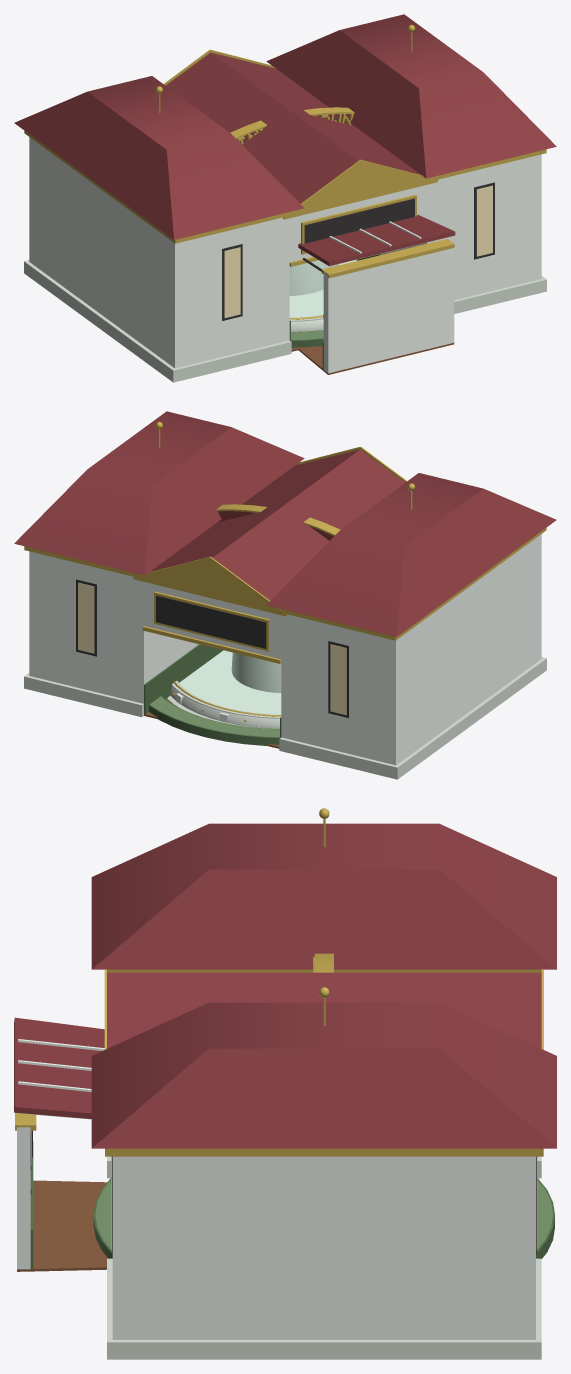
Rendered from downs-arcade.glb.
3 views of the same model, one above another, from view 1: azimuth 30°, elevation 25°; view 2: azimuth 150°, elevation 25°; view 3: azimuth 270°, elevation 25° (orthographic). The views are drawn at different scales.
Visible parts, largest first — view 1: dn_gate_hall_barn, dn_gate_hall_mint, dn_arcade_mint, dn_gate_hall_gold, dn_gate_hall_mint2, dn_arcade_barn, dn_gate_hall_black, dn_gate_hall_glasswarm, dn_arcade_gold, dn_curtainSheet, dn_gate_main_gold, dn_waterBasin (+2 smaller); view 2: dn_gate_hall_barn, dn_gate_hall_mint, dn_gate_hall_gold, dn_gate_hall_mint2, dn_gate_hall_black, dn_waterBasin, dn_gate_hall_glasswarm, dn_gate_hall_money2, dn_fountain_mint2, dn_curtainSheet, dn_fountain_money2, dn_fountain_money (+1 smaller); view 3: dn_gate_hall_barn, dn_gate_hall_mint, dn_gate_hall_mint2, dn_arcade_barn, dn_gate_hall_gold, dn_arcade_saddle2, dn_arcade_mint, dn_fountain_money, dn_fountain_money2.
Part boxes in pixels (<box>): dn_gate_hall_barn: <box>14,14,556,239</box>; dn_gate_hall_mint: <box>29,137,541,368</box>; dn_arcade_mint: <box>323,221,454,373</box>; dn_gate_hall_gold: <box>24,24,546,266</box>; dn_gate_hall_mint2: <box>24,260,546,382</box>; dn_arcade_barn: <box>298,215,455,266</box>; dn_gate_hall_black: <box>222,182,494,320</box>; dn_gate_hall_glasswarm: <box>224,185,492,318</box>; dn_arcade_gold: <box>321,239,454,278</box>; dn_curtainSheet: <box>289,260,338,295</box>; dn_gate_main_gold: <box>230,107,354,144</box>; dn_waterBasin: <box>289,260,357,317</box>; dn_gate_hall_barn: <box>14,411,556,636</box>; dn_gate_hall_mint: <box>29,534,541,765</box>; dn_gate_hall_gold: <box>24,421,546,663</box>; dn_gate_hall_mint2: <box>24,657,546,779</box>; dn_gate_hall_black: <box>76,579,348,717</box>; dn_waterBasin: <box>179,650,281,714</box>; dn_gate_hall_glasswarm: <box>78,582,346,715</box>; dn_gate_hall_money2: <box>144,644,281,738</box>; dn_fountain_mint2: <box>167,681,280,728</box>; dn_curtainSheet: <box>231,652,281,692</box>; dn_fountain_money2: <box>149,696,279,745</box>; dn_fountain_money: <box>150,696,279,736</box>; dn_gate_hall_barn: <box>91,823,556,1148</box>; dn_gate_hall_mint: <box>112,1156,535,1339</box>; dn_gate_hall_mint2: <box>107,1156,541,1359</box>; dn_arcade_barn: <box>14,1017,104,1118</box>; dn_gate_hall_gold: <box>104,808,543,1156</box>; dn_arcade_saddle2: <box>17,1180,107,1271</box>; dn_arcade_mint: <box>17,1039,104,1269</box>; dn_fountain_money: <box>95,1180,552,1249</box>; dn_fountain_money2: <box>93,1178,554,1258</box>.
Bounding box in the file's own units: 33.4 × 21.32 × 28.24.
